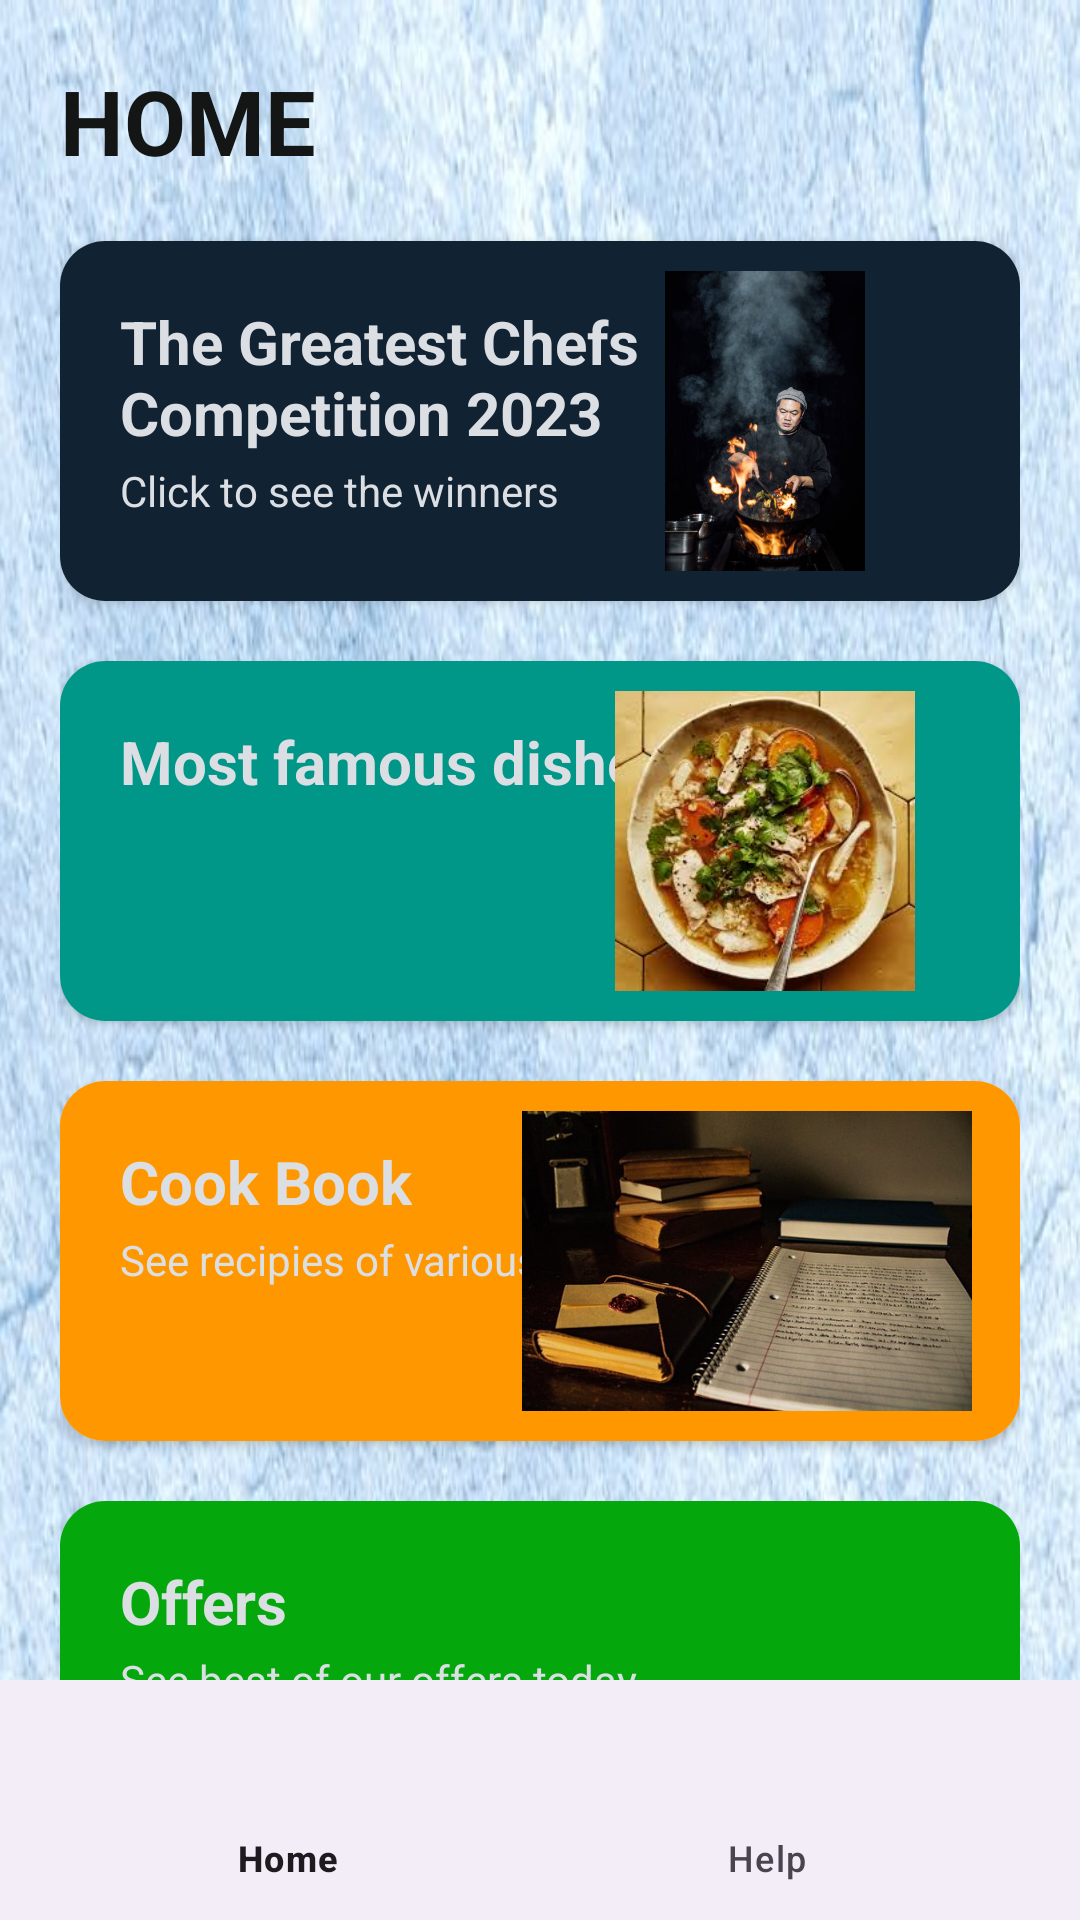

Point at icon controls on the screen. Image size 1080x1920, points as (x=x, y=y).
asian: (x=702, y=421)
